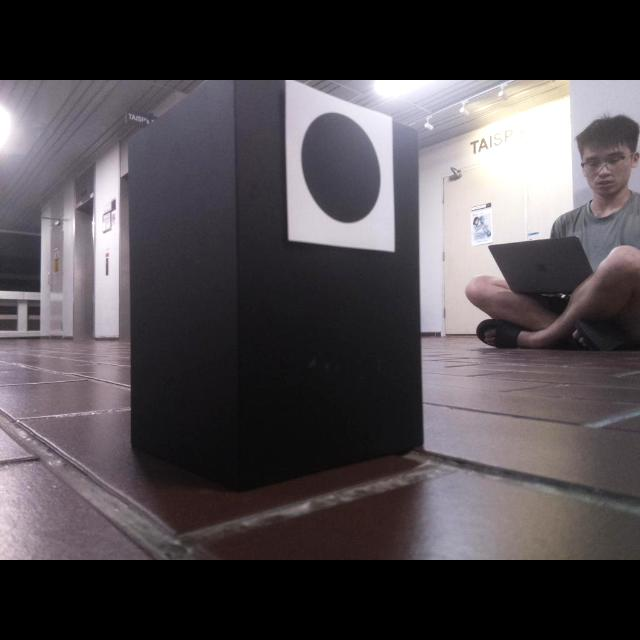CIRCLE: (296, 109, 384, 227)
